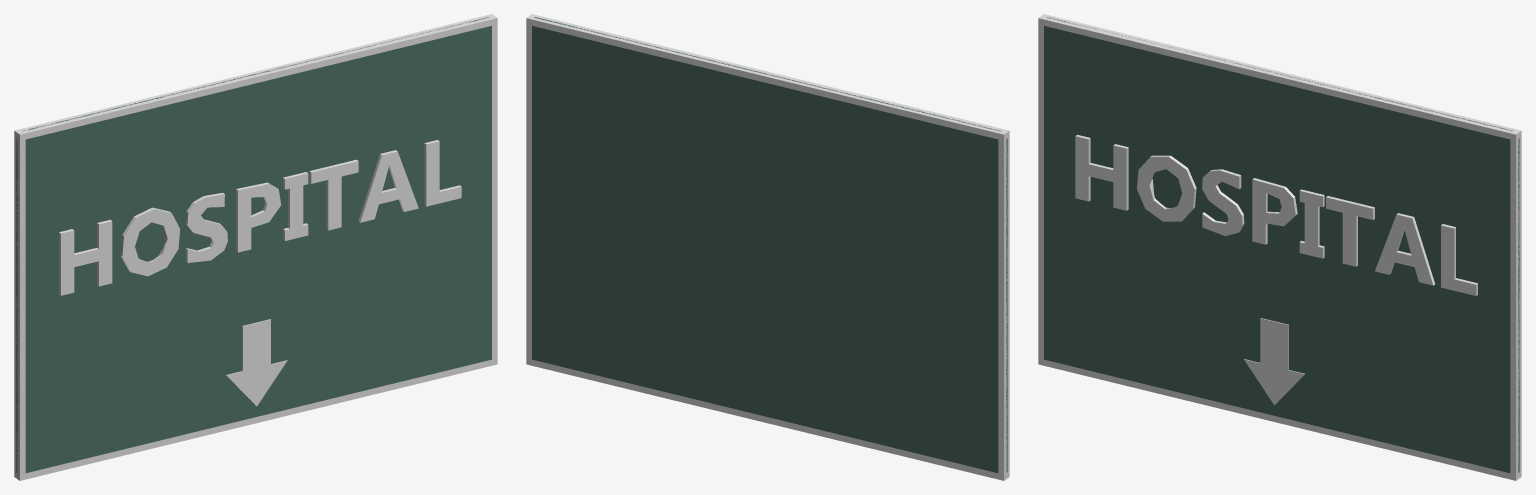
The model's file is SM_FloorProps_RoadSign_36.fbx.
3 views of the same model, side by side, from view 1: azimuth 30°, elevation 25°; view 2: azimuth 150°, elevation 25°; view 3: azimuth 330°, elevation 25° (orthographic).
Parts seen in each view (by area): view 1: SM_FloorProps_RoadSign_36; view 2: SM_FloorProps_RoadSign_36; view 3: SM_FloorProps_RoadSign_36.
Part boxes in pixels (<box>): SM_FloorProps_RoadSign_36: <box>14,14,497,480</box>; SM_FloorProps_RoadSign_36: <box>526,14,1009,480</box>; SM_FloorProps_RoadSign_36: <box>1038,14,1521,480</box>.
Bounding box in the file's own units: 2.33 × 1.61 × 0.064.
